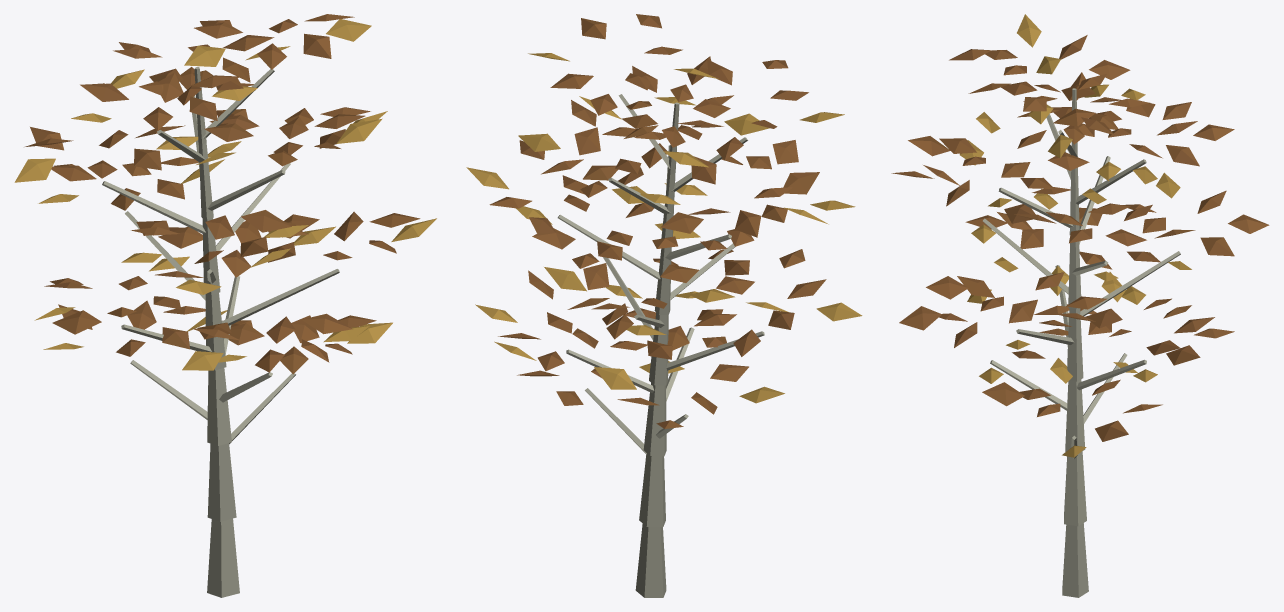
The model's file is birch_russet_lod.glb.
The picture shows the model from 3 angles, left to right: view 1: azimuth 30°, elevation 25°; view 2: azimuth 150°, elevation 25°; view 3: azimuth 270°, elevation 25°; orthographic projection. The views are drawn at different scales.
Visible parts, largest first — view 1: birch_russet_lod; view 2: birch_russet_lod; view 3: birch_russet_lod.
Part boxes in pixels (x1,y1,x2,y2): birch_russet_lod: (14,14,436,597); birch_russet_lod: (466,14,862,597); birch_russet_lod: (891,14,1269,597).
Size of the model in its own units: 2.71 by 3.79 by 2.46.
